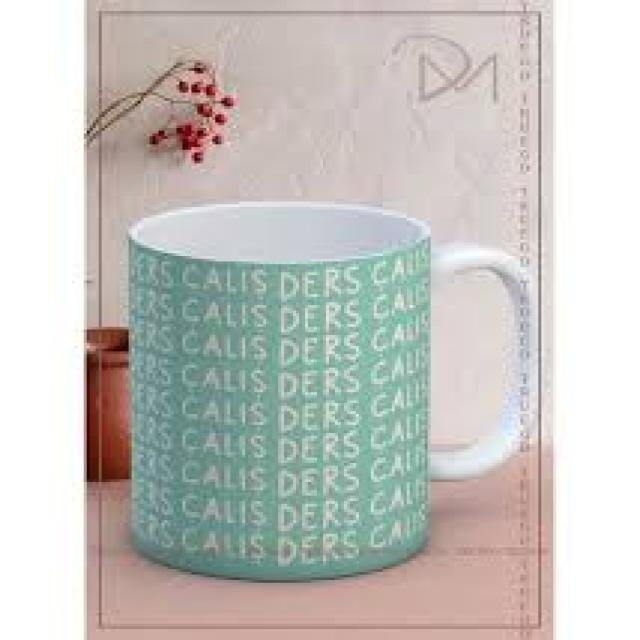taza: (128, 199, 536, 582)
